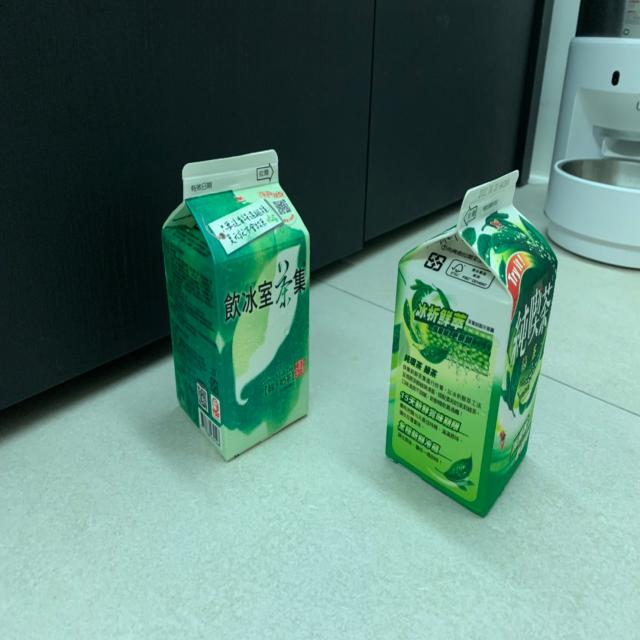non_white_jug: (377, 159, 566, 530), (153, 138, 318, 473)
